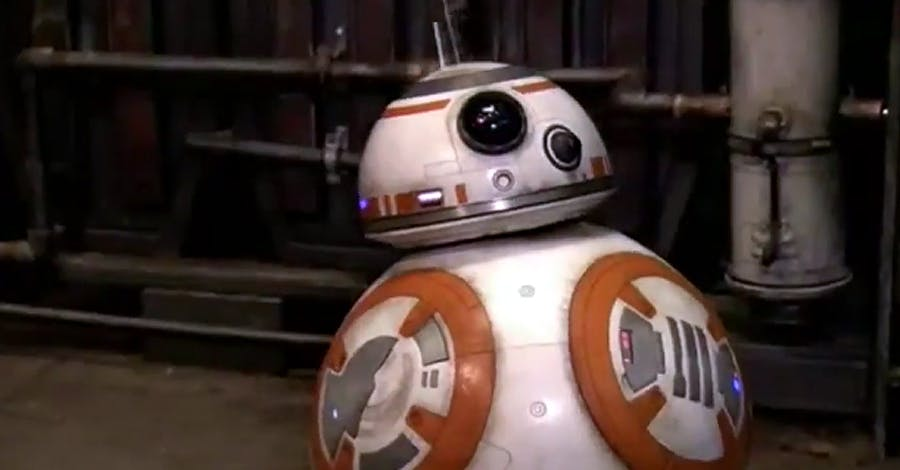bb8: (311, 62, 752, 470)
